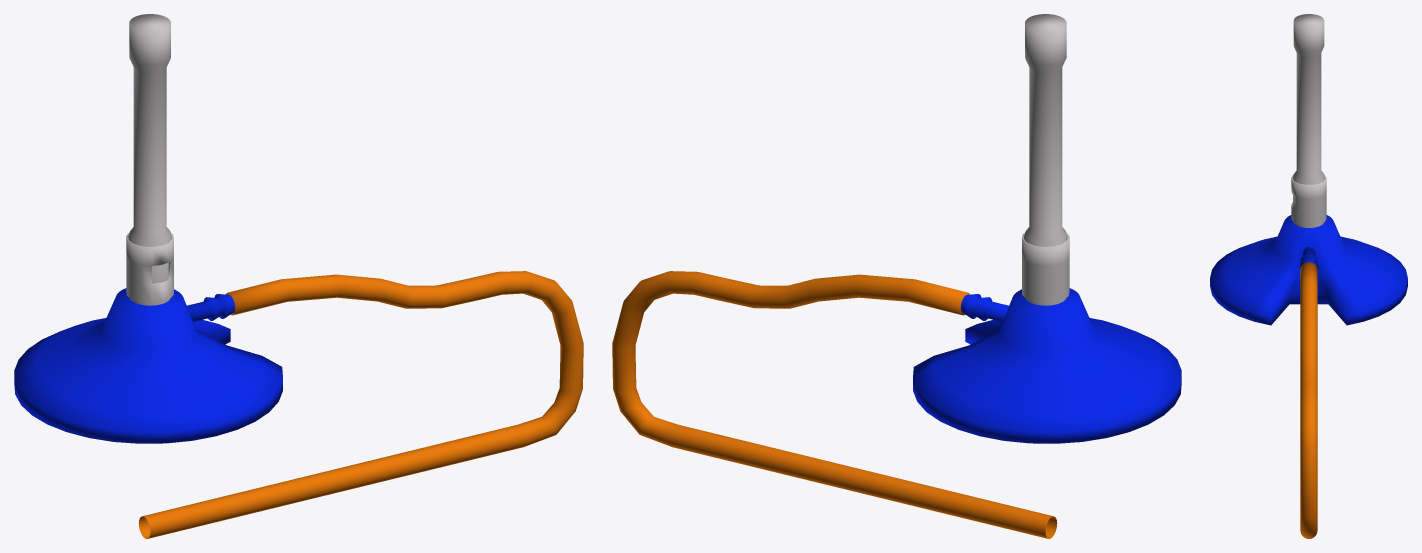
Rendered from bunsen_burner.glb.
3 views of the same model, side by side, from view 1: azimuth 30°, elevation 25°; view 2: azimuth 150°, elevation 25°; view 3: azimuth 270°, elevation 25° (orthographic). The views are drawn at different scales.
Visible parts, largest first — view 1: Cylinder, Cylinder.004, Cylinder.002, Cylinder.003, Cylinder.001; view 2: Cylinder, Cylinder.004, Cylinder.002, Cylinder.003, Cylinder.001; view 3: Cylinder, Cylinder.004, Cylinder.002, Cylinder.003, Cylinder.001.
Part boxes in pixels (x1=…): Cylinder: x1=14, y1=288, x2=282, y2=443; Cylinder.004: x1=138, y1=271, x2=583, y2=538; Cylinder.002: x1=129, y1=14, x2=170, y2=305; Cylinder.003: x1=126, y1=233, x2=173, y2=303; Cylinder.001: x1=187, y1=294, x2=234, y2=321; Cylinder: x1=913, y1=288, x2=1181, y2=443; Cylinder.004: x1=612, y1=271, x2=1057, y2=538; Cylinder.002: x1=1025, y1=14, x2=1066, y2=305; Cylinder.003: x1=1022, y1=233, x2=1069, y2=303; Cylinder.001: x1=961, y1=294, x2=1008, y2=321; Cylinder: x1=1210, y1=215, x2=1407, y2=325; Cylinder.004: x1=1300, y1=262, x2=1317, y2=538; Cylinder.002: x1=1293, y1=14, x2=1324, y2=227; Cylinder.003: x1=1291, y1=174, x2=1326, y2=225; Cylinder.001: x1=1299, y1=247, x2=1318, y2=269.
Size of the model in its own units: 0.3654 by 0.3263 by 0.155.
